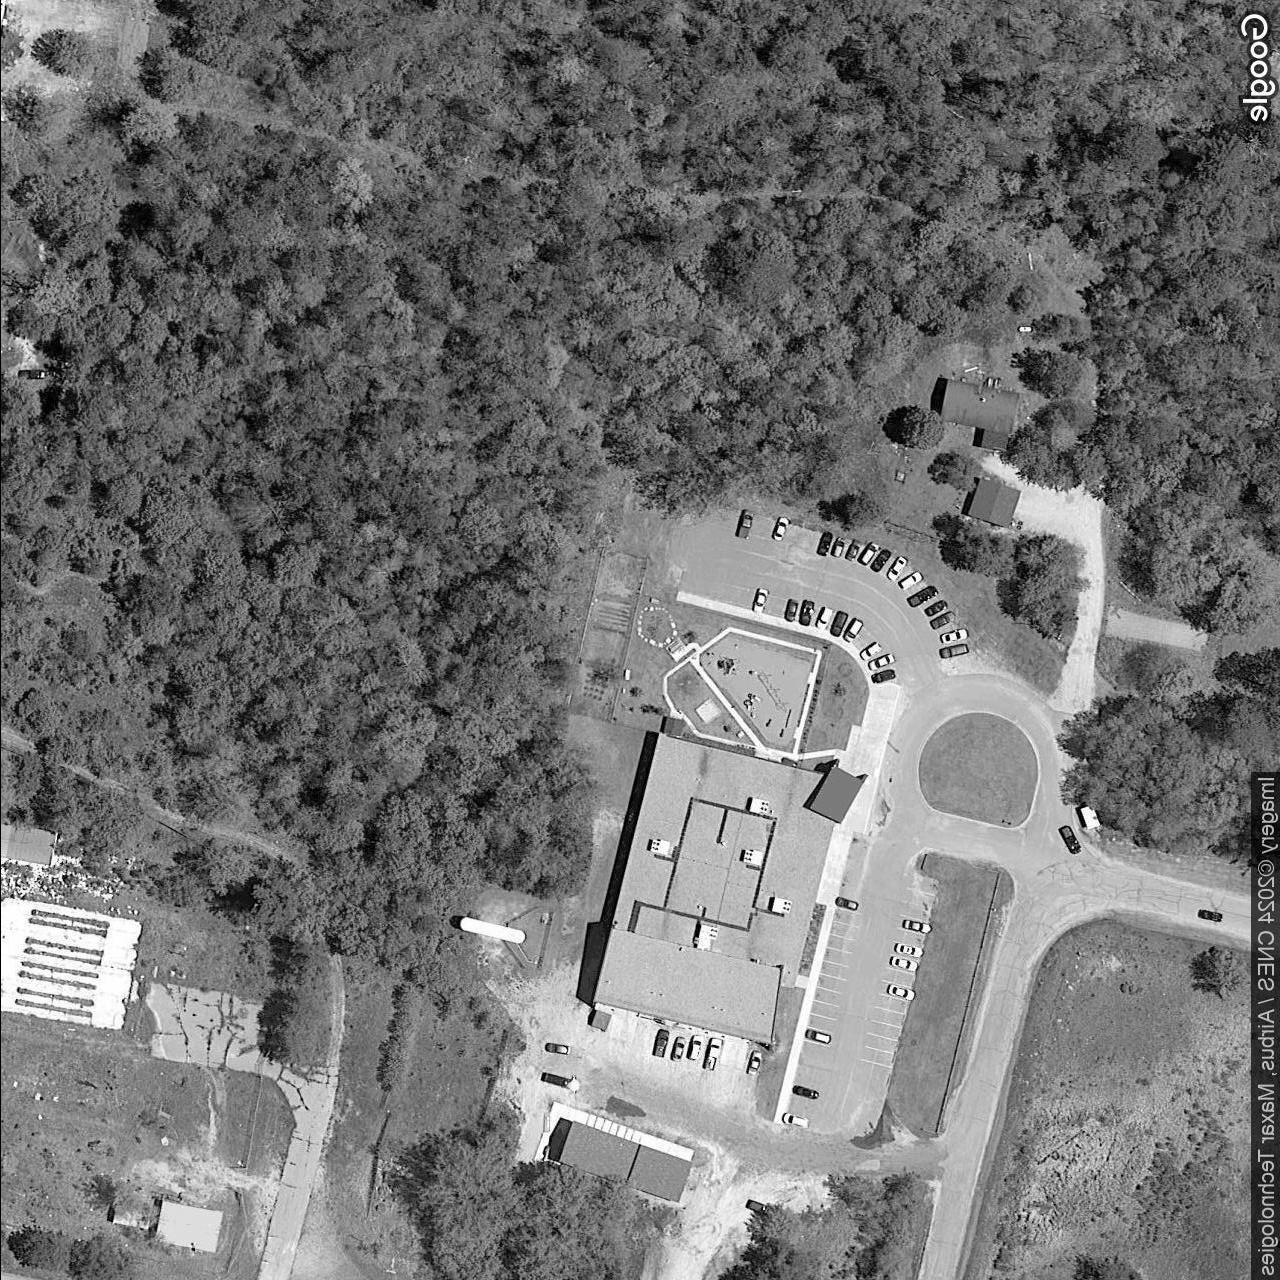Garage: (557, 1121, 690, 1205), (155, 1198, 222, 1254), (967, 477, 1020, 529)
House: (939, 379, 1019, 452), (0, 823, 55, 866)
Other: (591, 715, 862, 1047)
Propane: (457, 915, 527, 946), (1014, 325, 1033, 333)
